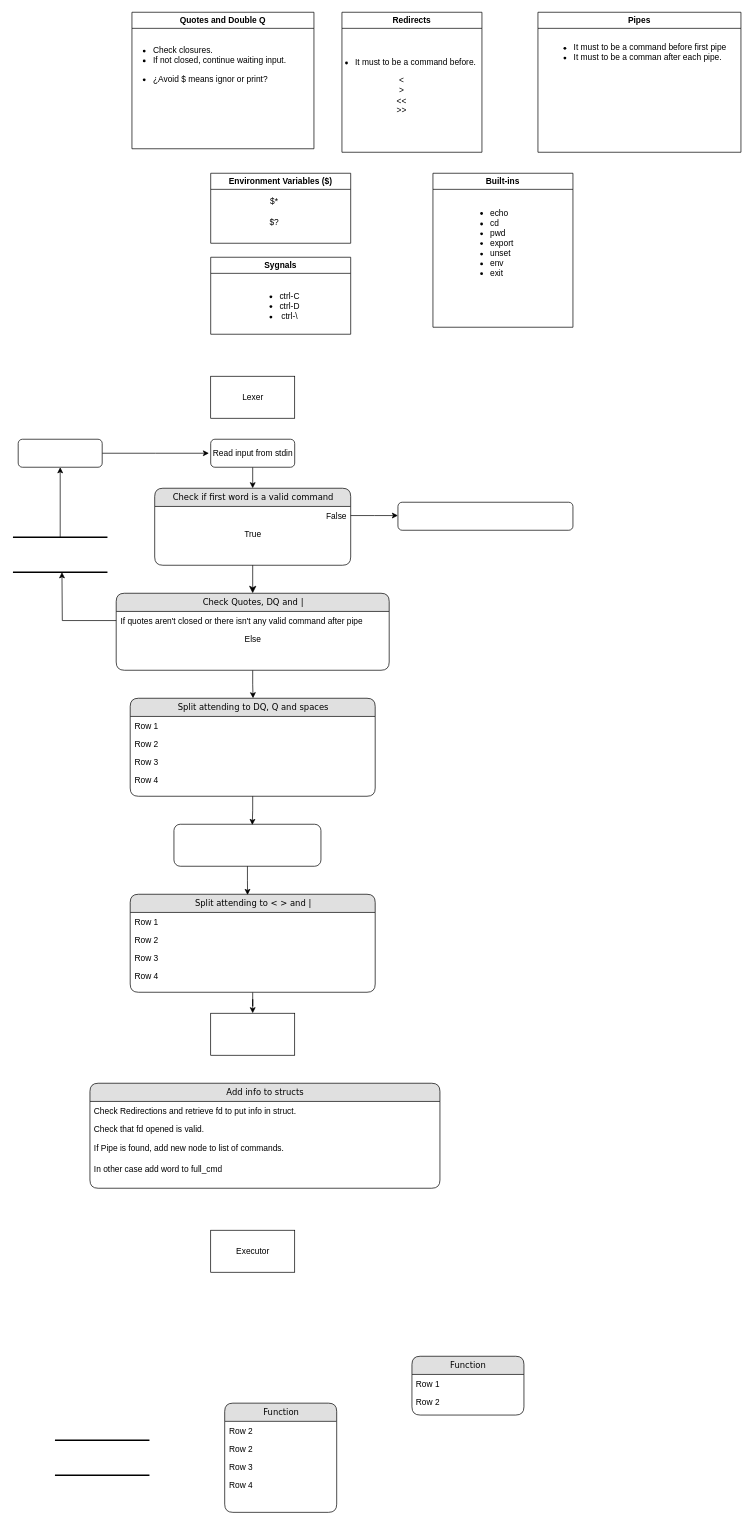
The diagram is 753 pixels wide and 1525 high, and some of its shapes have lost their labels. The shapes that lost their labels are listed below. From the top down, each one's centre as x and y in pixels, then its label:
point (60, 453): Wait input from stdin
point (485, 516): Error: command not found
point (60, 554): Save input
point (247, 845): Expander (Retrieve $ values)
point (252, 1034): Parser
point (102, 1457): Object
